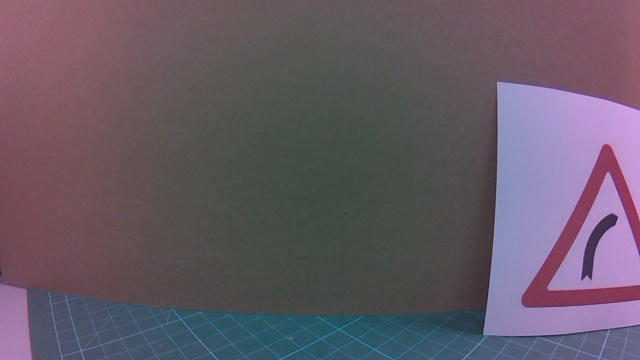right: (468, 152, 640, 328)
